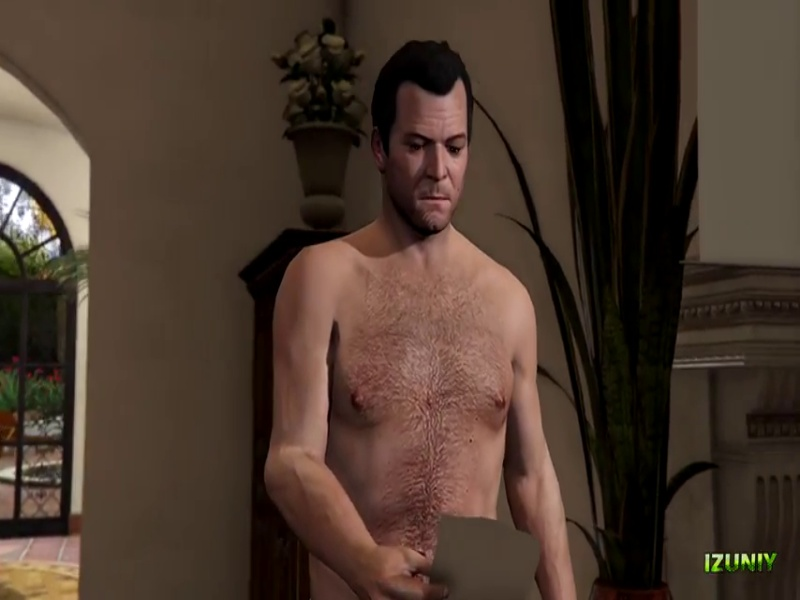human: (249, 51, 579, 591)
